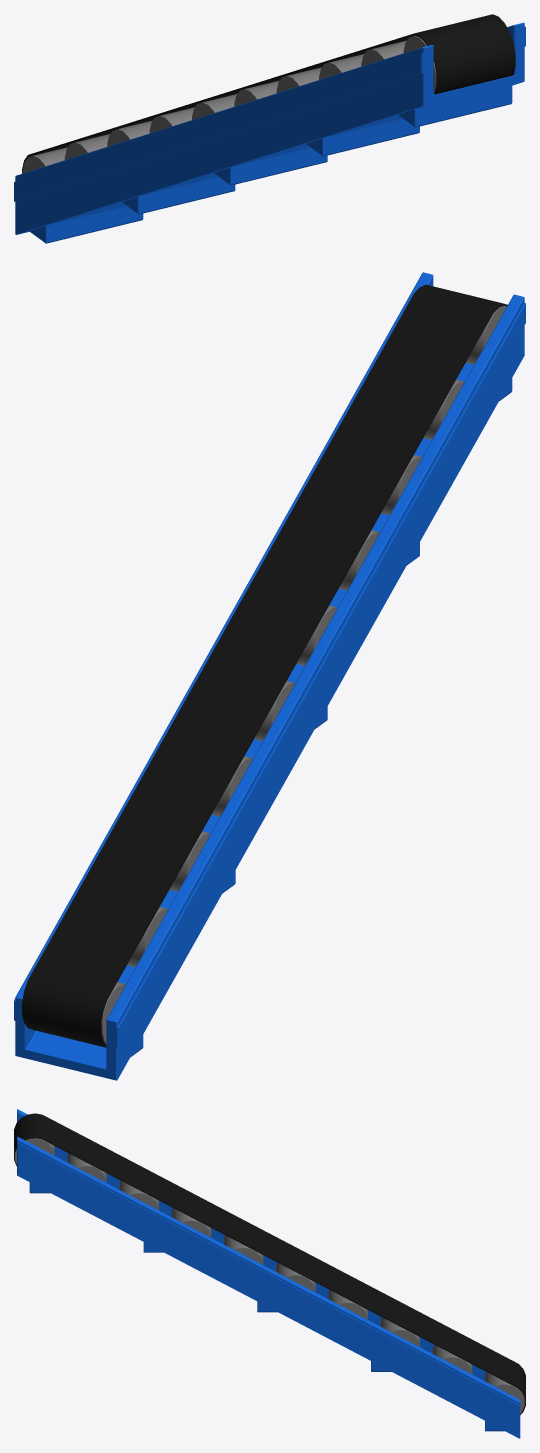
The model's file is conveyor-1x8-angled.fbx.
3 renders of one model, top to bottom at view 1: azimuth 30°, elevation 25°; view 2: azimuth 150°, elevation 25°; view 3: azimuth 270°, elevation 25°, orthographic. The views are drawn at different scales.
Parts seen in each view (by area): view 1: case, Cube, belt, roller; view 2: belt, case, roller; view 3: case, belt, roller, Cube.
Part boxes in pixels (left/top/right/bottom): case: left=14, top=22, right=525, bottom=234; Cube: left=29, top=85, right=512, bottom=243; belt: left=22, top=14, right=515, bottom=173; roller: left=22, top=35, right=436, bottom=173; belt: left=22, top=284, right=507, bottom=1047; case: left=14, top=272, right=525, bottom=1080; roller: left=101, top=305, right=506, bottom=1043; case: left=17, top=1109, right=520, bottom=1438; belt: left=14, top=1113, right=525, bottom=1414; roller: left=15, top=1138, right=524, bottom=1413; Cube: left=29, top=1182, right=504, bottom=1431.
Bounding box in the file's own units: 103 × 455 × 705.
